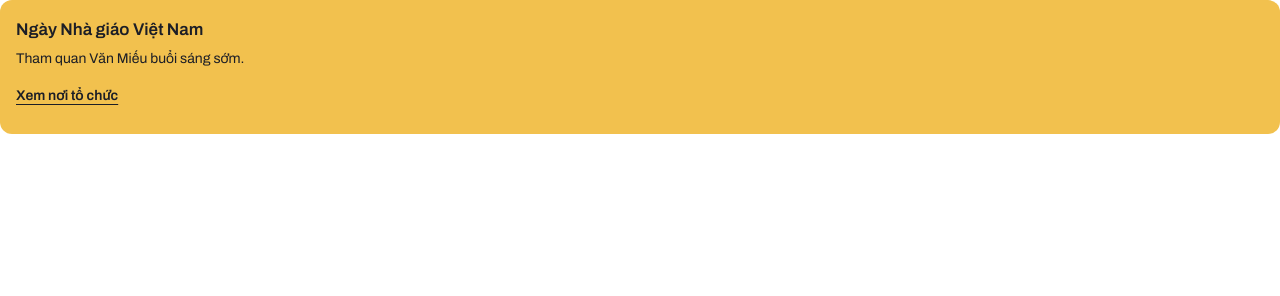
Test case: holiday band › offers the places that host the holiday, with directions and stories, only when the API names them (F13, F25)
This screenshot has width=1280, height=296.
Click the button "Xem nơi tổ chức" at coordinates (67, 96), box 16,74 -> 118,118
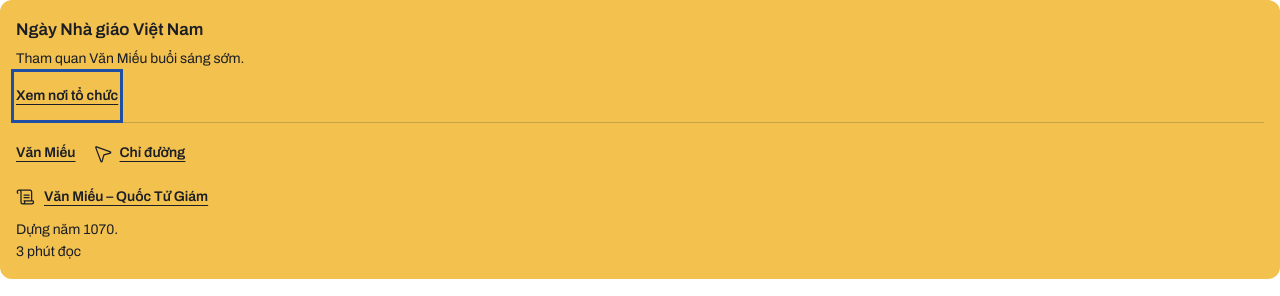
Result: the text "Dựng năm 1070." is shown at 16,222 -> 118,237
Result: the text "3 phút đọc" is shown at 16,244 -> 81,259
